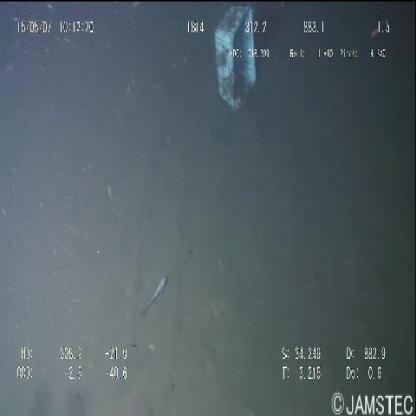Rác: (210, 3, 259, 114)
